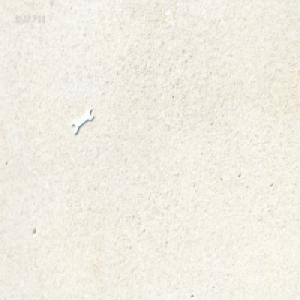Wrench: (71, 108, 94, 137)
